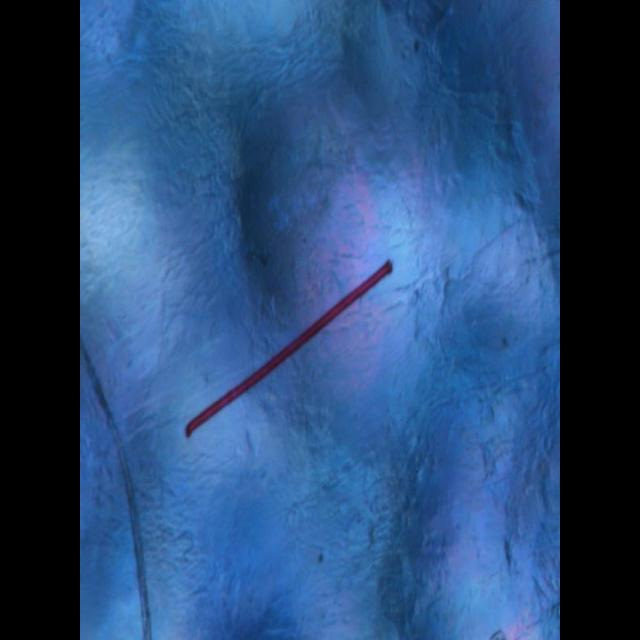Fibre: (184, 257, 393, 439)
